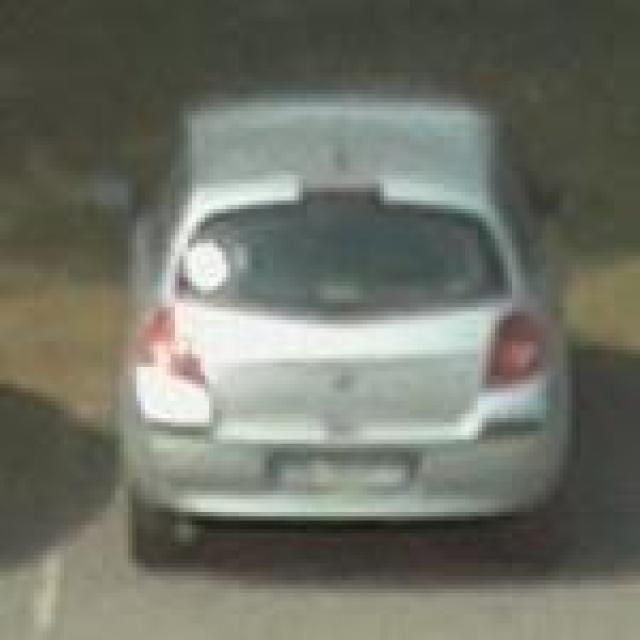cars-sUYr: (95, 38, 598, 600)
